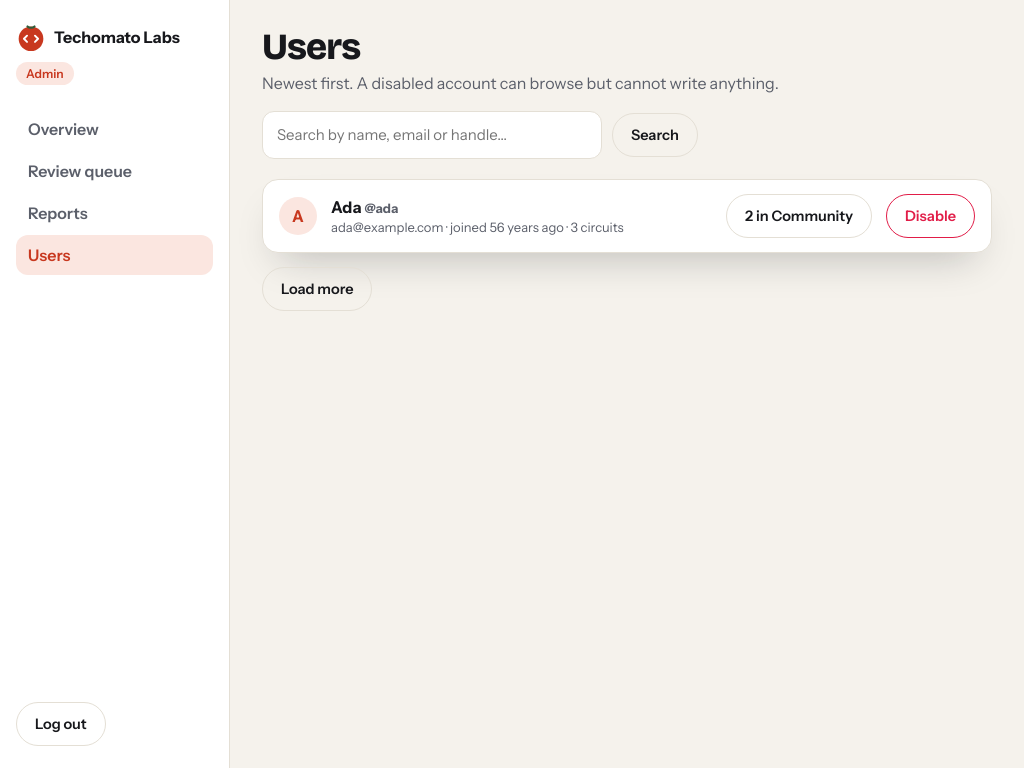
Scenario: AdminPanelPage › loads the next page of users
Click the button "Load more" at coordinates (317, 289), box 262,267 -> 372,311
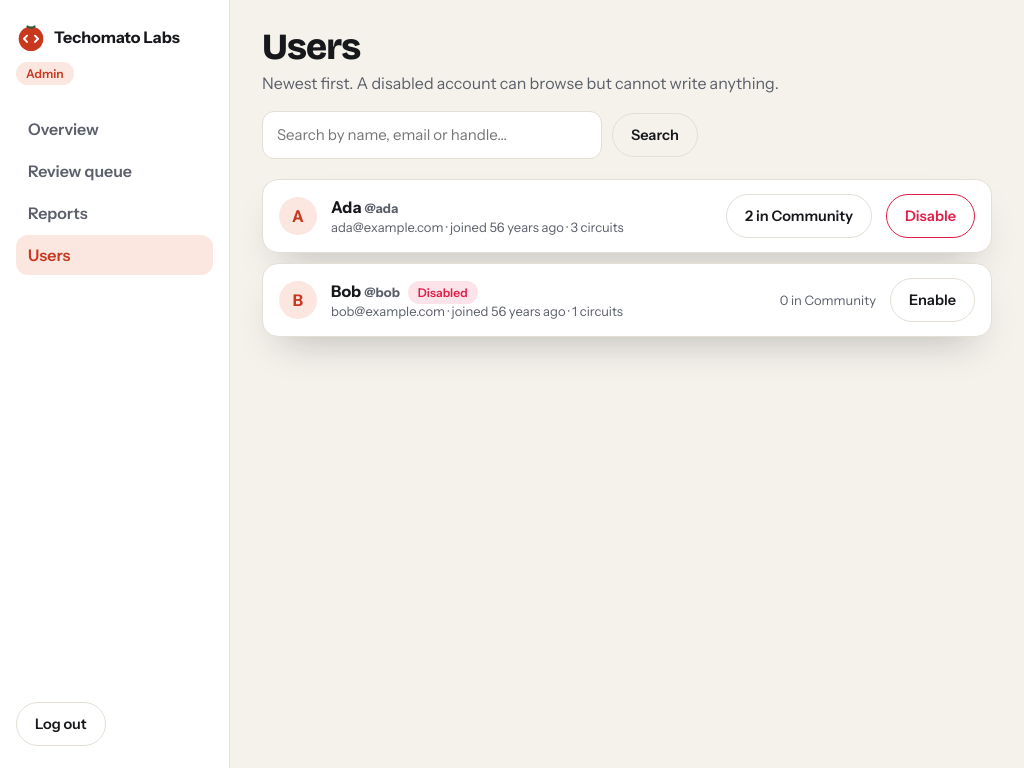
Expected: the text "@bob" is shown, 364,284 -> 400,300
Expected: the button "Load more" is gone
